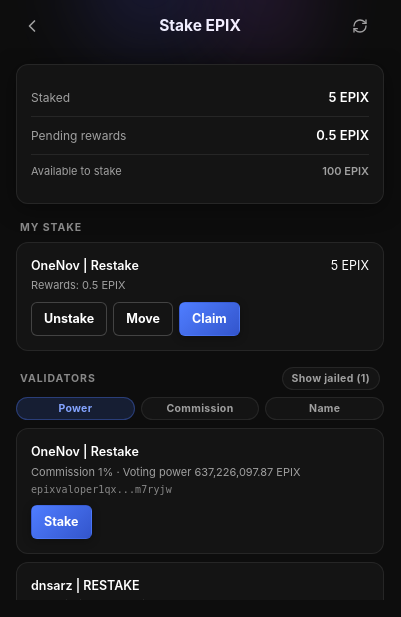
3. forms: Delegate, and the unbonding warning on Unstake › UNSTAKE shows the unbonding warning with the chain’s real 21 days, and the cap is the delegation
Click the button with test id "live-stake-undelegate": click(69, 319) [31,302,107,336]
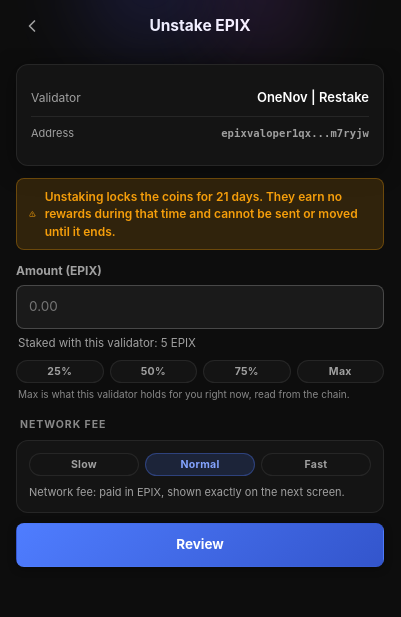
Result: the element with test id "live-stake-unbonding-note" shows "Unstaking locks the coins for 21 days" at [45,189,358,239]
Result: the element with test id "live-stake-unbonding-note" shows "cannot be sent or moved until it ends" at [45,189,358,239]
Result: the text with test id "live-stake-available" reads "Staked with this validator: 5 EPIX" at [18,336,196,350]
